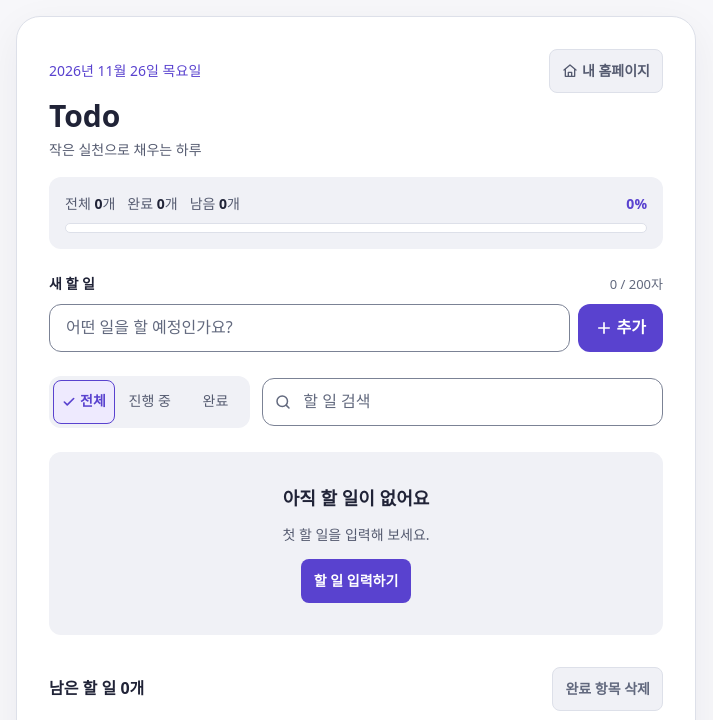
Test: TodoList 앱 통합 테스트 › 한글 IME 조합 중 Enter로는 등록되지 않고 조합 종료 후 Enter로 등록된다
Type "장보기" into the field labelled "새 할 일" at (309, 328), box left=49, top=304, right=570, bottom=352
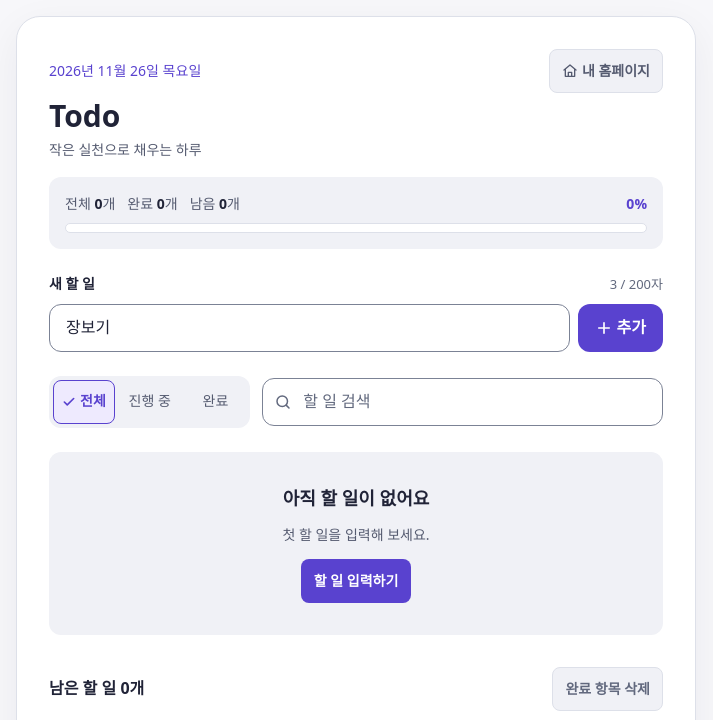
Press Enter in the field labelled "새 할 일", box left=49, top=304, right=570, bottom=352
Submit the form labelled "새 할 일", box left=49, top=273, right=663, bottom=352
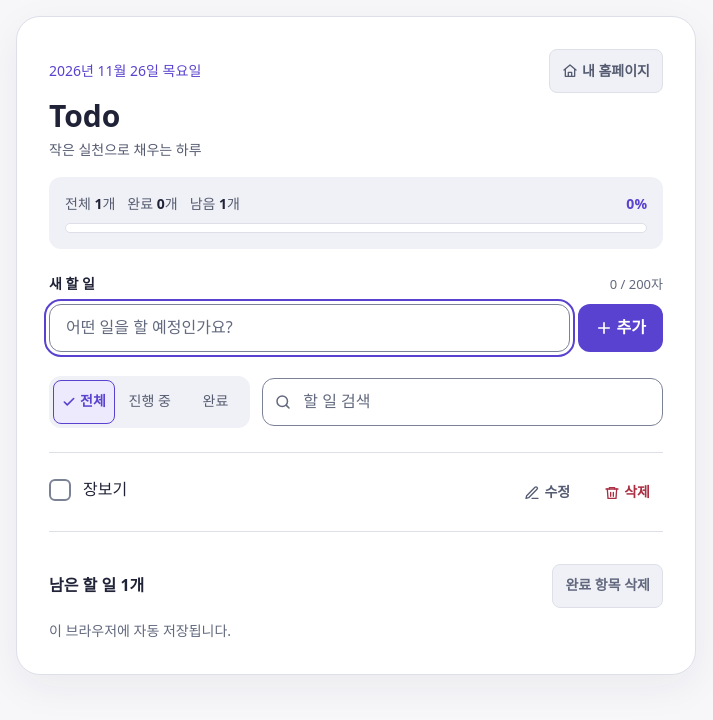
Check: the number of list items is 1, box left=49, top=453, right=663, bottom=532
Check: the text "장보기" is shown, box left=83, top=478, right=127, bottom=500
